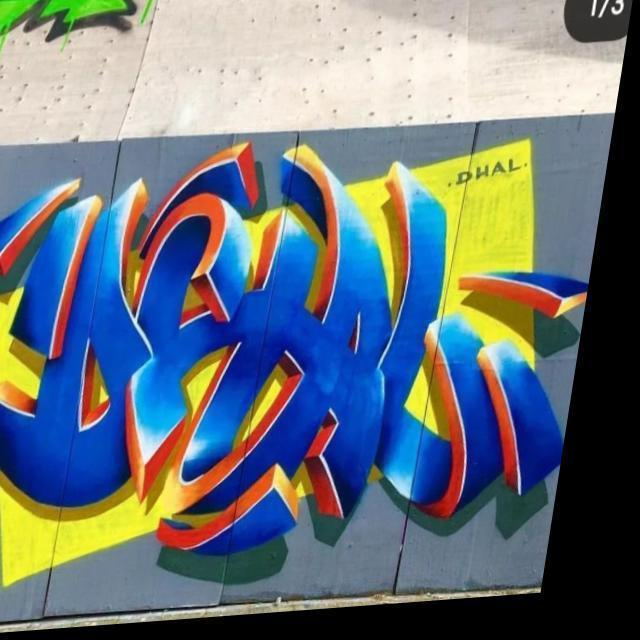nonspitting: (0, 140, 585, 560), (0, 0, 138, 43)
